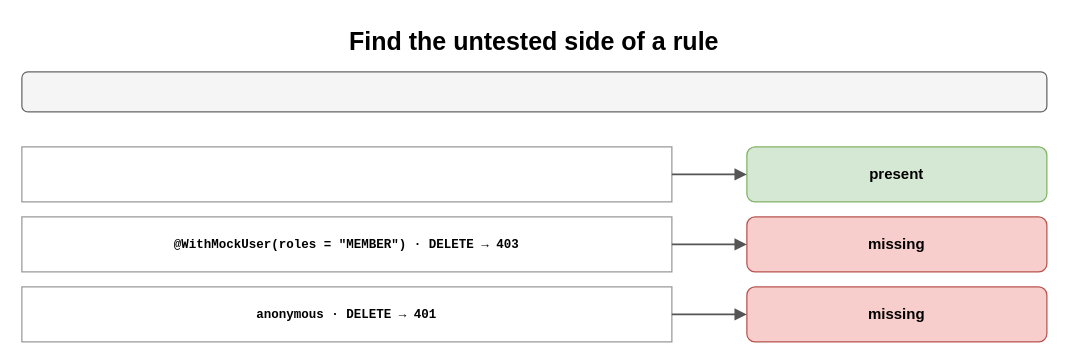
Some shapes in this 1069 by 364 pixel diagram are drawn without their labels. Each missing label, with the box of its shape:
@WithMockUser(roles = "LIBRARIAN") · DELETE → 204: (21, 146, 672, 202)
Only the allowed case is tested, so a looser rule still passes: (21, 71, 1047, 112)
